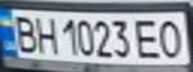0: (75, 16, 93, 57)
1: (57, 15, 78, 56)
2: (90, 16, 115, 58)
3: (109, 16, 136, 60)
B: (9, 12, 39, 54)
E: (133, 16, 163, 60)
H: (33, 13, 60, 55)
O: (154, 16, 187, 60)
